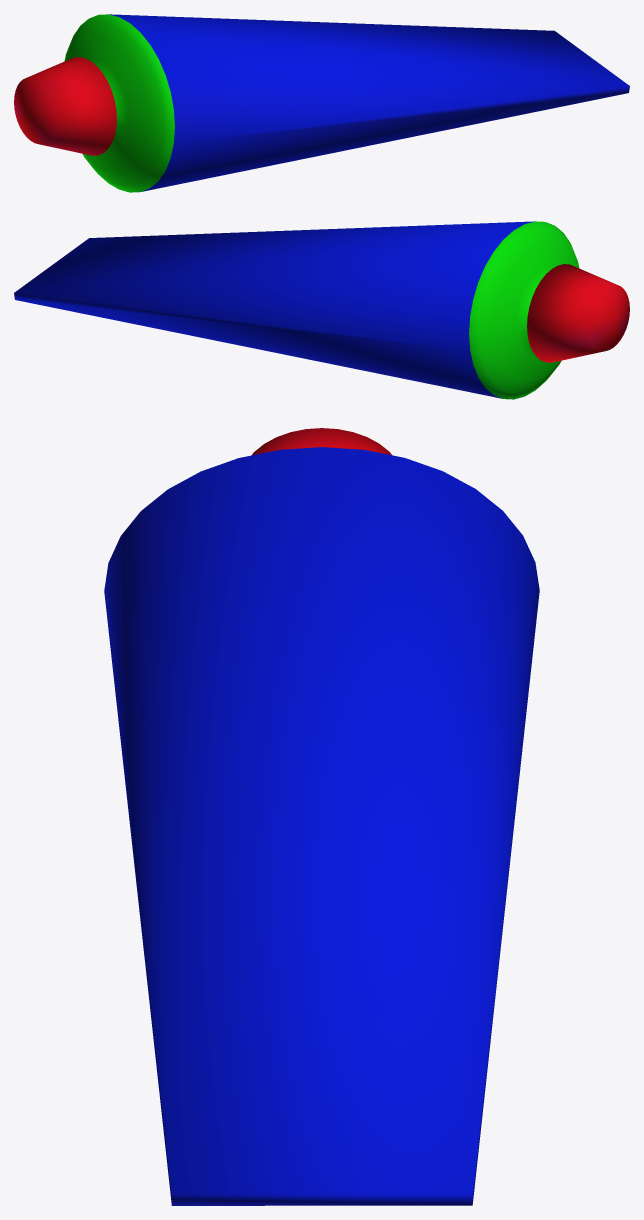
File: pasta.fbx
The picture shows the model from 3 angles, top to bottom: view 1: azimuth 30°, elevation 25°; view 2: azimuth 150°, elevation 25°; view 3: azimuth 270°, elevation 25°; orthographic projection. The views are drawn at different scales.
Visible parts, largest first — view 1: Toothpaste; view 2: Toothpaste; view 3: Toothpaste.
Boxes of the visible parts, x1,y1,x2,y2 form: Toothpaste: (14, 14, 629, 192); Toothpaste: (14, 221, 629, 399); Toothpaste: (104, 428, 539, 1205).
Size of the model in its own units: 22.16 by 5.79 by 7.4.
